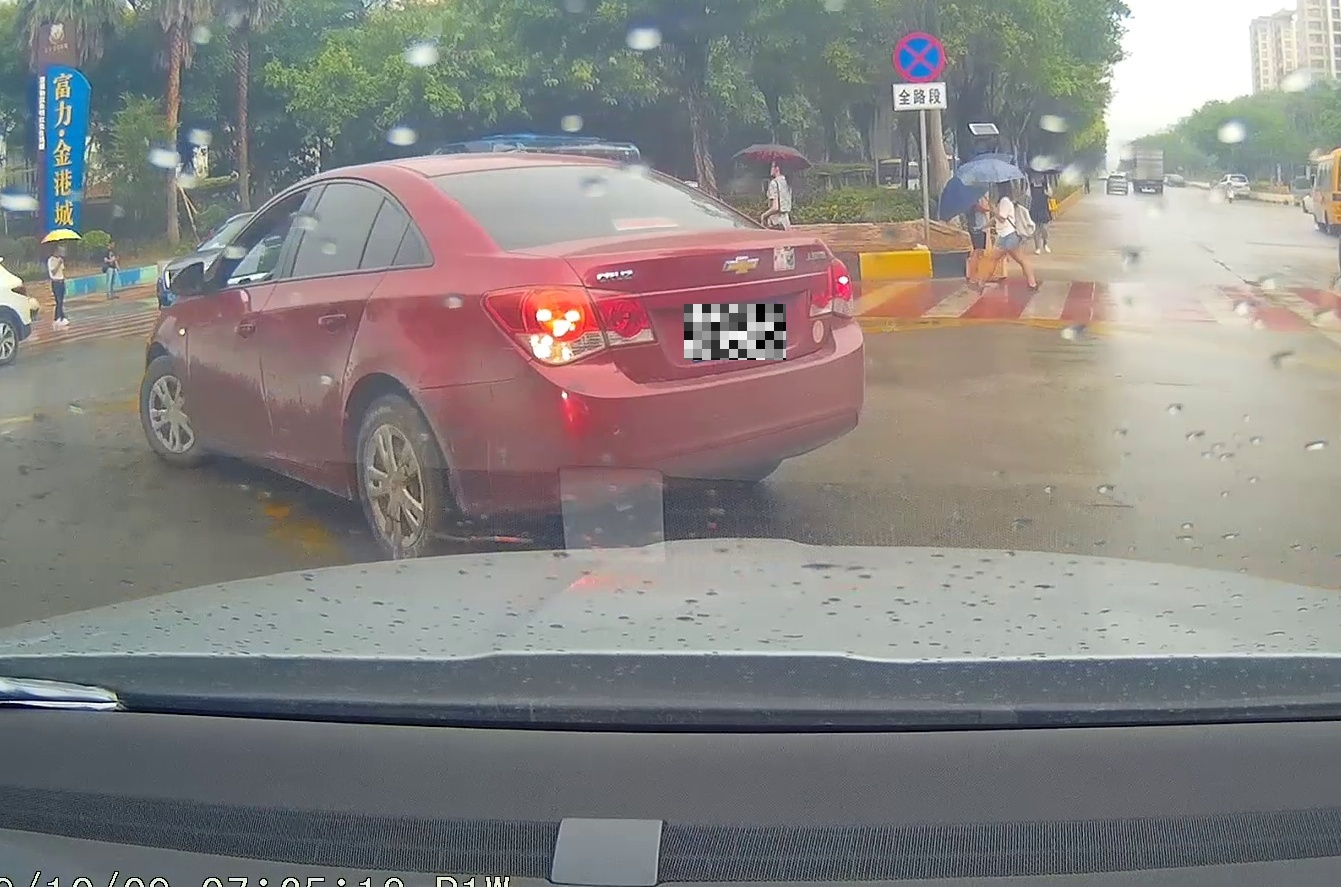L_light: (480, 286, 656, 365)
R_light: (809, 257, 853, 318)
T_light: (615, 219, 677, 228)
day-left: (416, 159, 866, 557)
plate_1: (684, 304, 786, 360)
